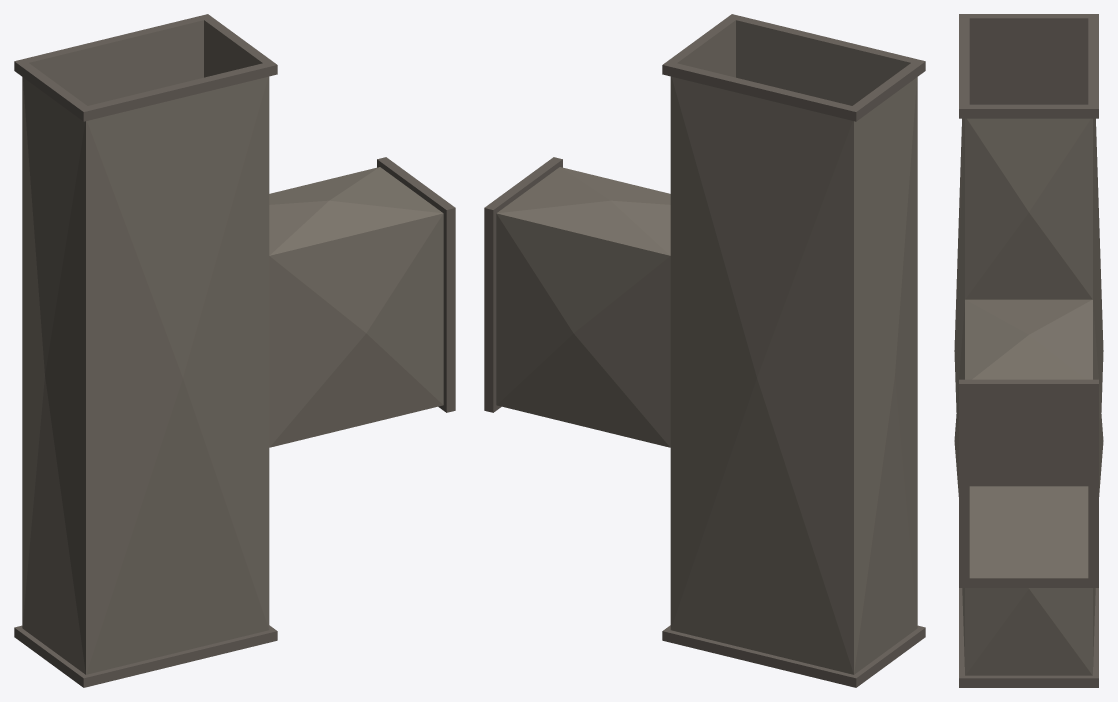
The model's file is SM_Props_Roof_Vent_Tbend.fbx.
3 renders of one model, left to right at view 1: azimuth 30°, elevation 25°; view 2: azimuth 150°, elevation 25°; view 3: azimuth 270°, elevation 25°, orthographic.
Parts seen in each view (by area): view 1: SM_Props_Roof_Vent_Tbend; view 2: SM_Props_Roof_Vent_Tbend; view 3: SM_Props_Roof_Vent_Tbend.
Part boxes in pixels (bbox=[...]): SM_Props_Roof_Vent_Tbend: bbox=[14, 14, 455, 687]; SM_Props_Roof_Vent_Tbend: bbox=[484, 14, 925, 687]; SM_Props_Roof_Vent_Tbend: bbox=[954, 14, 1103, 687].
Bounding box in the file's own units: 205 × 300 × 70.
